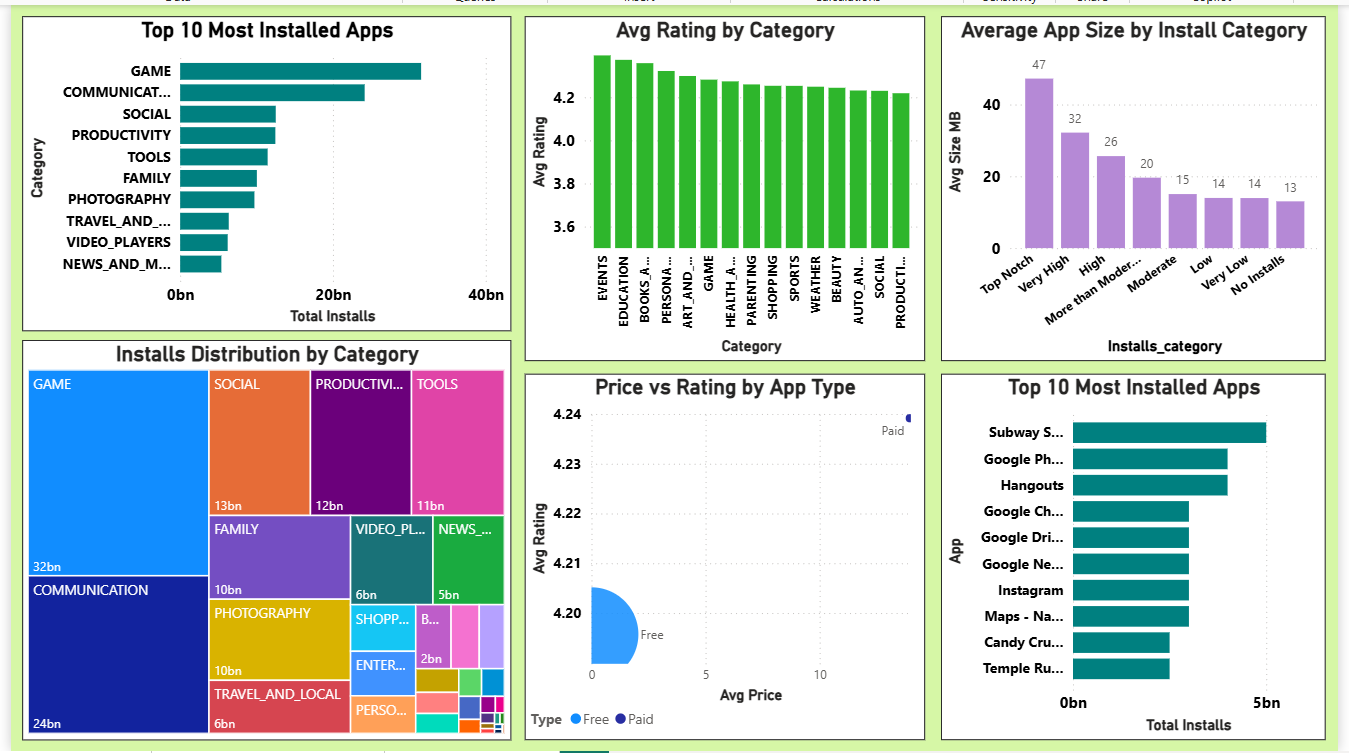

This screenshot's page, from the dashboard's own definition file:
{"tool":"powerbi","page":{"name":"Category & Install Analysis","canvas":[1280,720],"ordinal":1},"visuals":[{"type":"clusteredBarChart","title":"Top 10 Most Installed Apps","fields":{"Category":["playstore_cleaned.Category"],"Y":["playstore_cleaned.Total Installs"]},"box":[10.9,10.9,471.7,304],"z":0},{"type":"clusteredBarChart","title":"Top 10 Most Installed Apps","fields":{"Category":["playstore_cleaned.App"],"Y":["playstore_cleaned.Total Installs"]},"box":[897.6,355.9,371.6,353.5],"z":1000},{"type":"clusteredColumnChart","fields":{"Category":["playstore_cleaned.Category"],"Y":["playstore_cleaned.Avg Rating"]},"box":[495.8,10.9,386.1,333],"z":2000},{"type":"treemap","title":"Installs Distribution by Category","fields":{"Group":["playstore_cleaned.Category"],"Values":["playstore_cleaned.Total Installs"]},"box":[10.9,323.3,471.7,386.1],"z":3000},{"type":"scatterChart","title":"Price vs Rating by App Type","fields":{"X":["playstore_cleaned.Avg Price"],"Y":["playstore_cleaned.Avg Rating"],"Series":["playstore_cleaned.Type"],"Size":["playstore_cleaned.Total Installs"]},"box":[495.8,355.9,386.1,353.5],"z":4000},{"type":"clusteredColumnChart","title":"Average App Size by Install Category","fields":{"Category":["playstore_cleaned.Installs_category"],"Y":["playstore_cleaned.Avg Size MB"]},"box":[897.6,10.9,371.6,333],"z":5000}]}

Visuals, with their boxes in screenshot pixels (x1, y1, x2, y2):
"Top 10 Most Installed Apps" clusteredBarChart: 25,15,511,328
"Top 10 Most Installed Apps" clusteredBarChart: 938,370,1321,734
clusteredColumnChart - playstore_cleaned.Category x playstore_cleaned.Avg Rating: 525,15,922,358
"Installs Distribution by Category" treemap: 25,336,511,734
"Price vs Rating by App Type" scatterChart: 525,370,922,734
"Average App Size by Install Category" clusteredColumnChart: 938,15,1321,358
